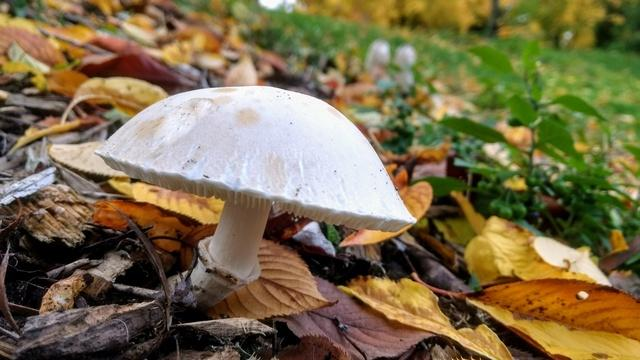Non-edible Mushroom: (93, 83, 417, 318)
